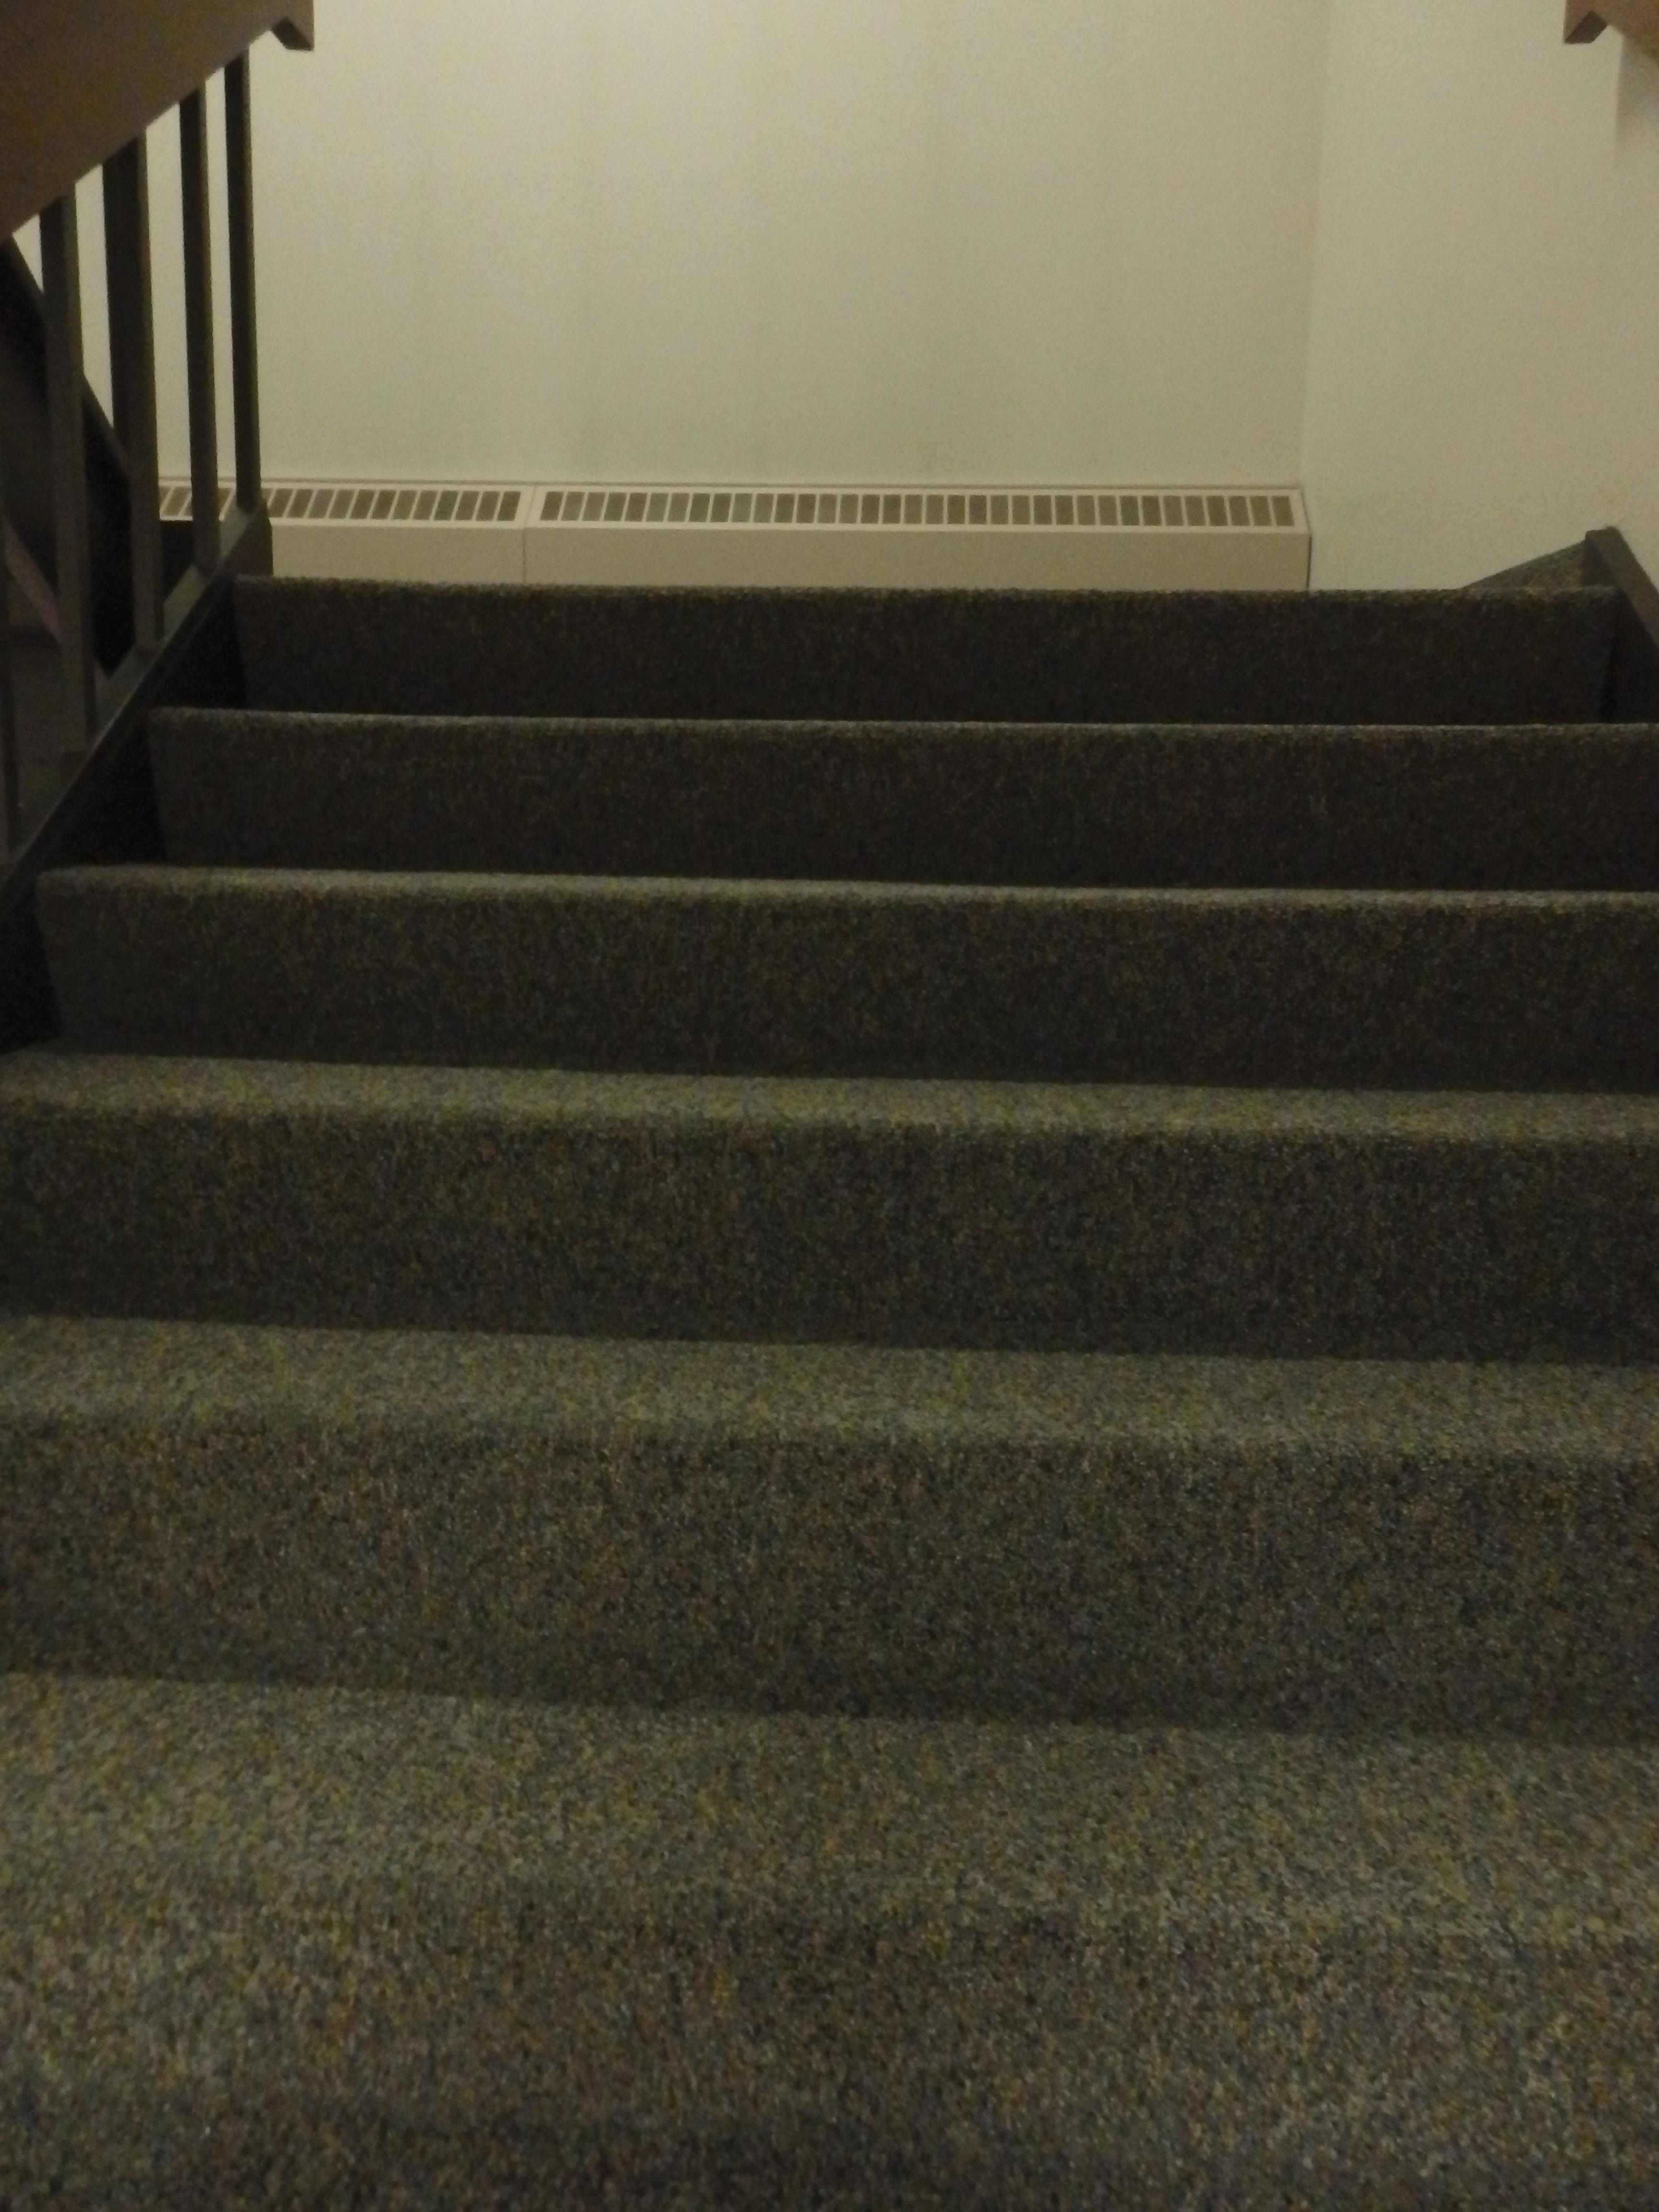stairs_up: (47, 552, 1659, 2113)
